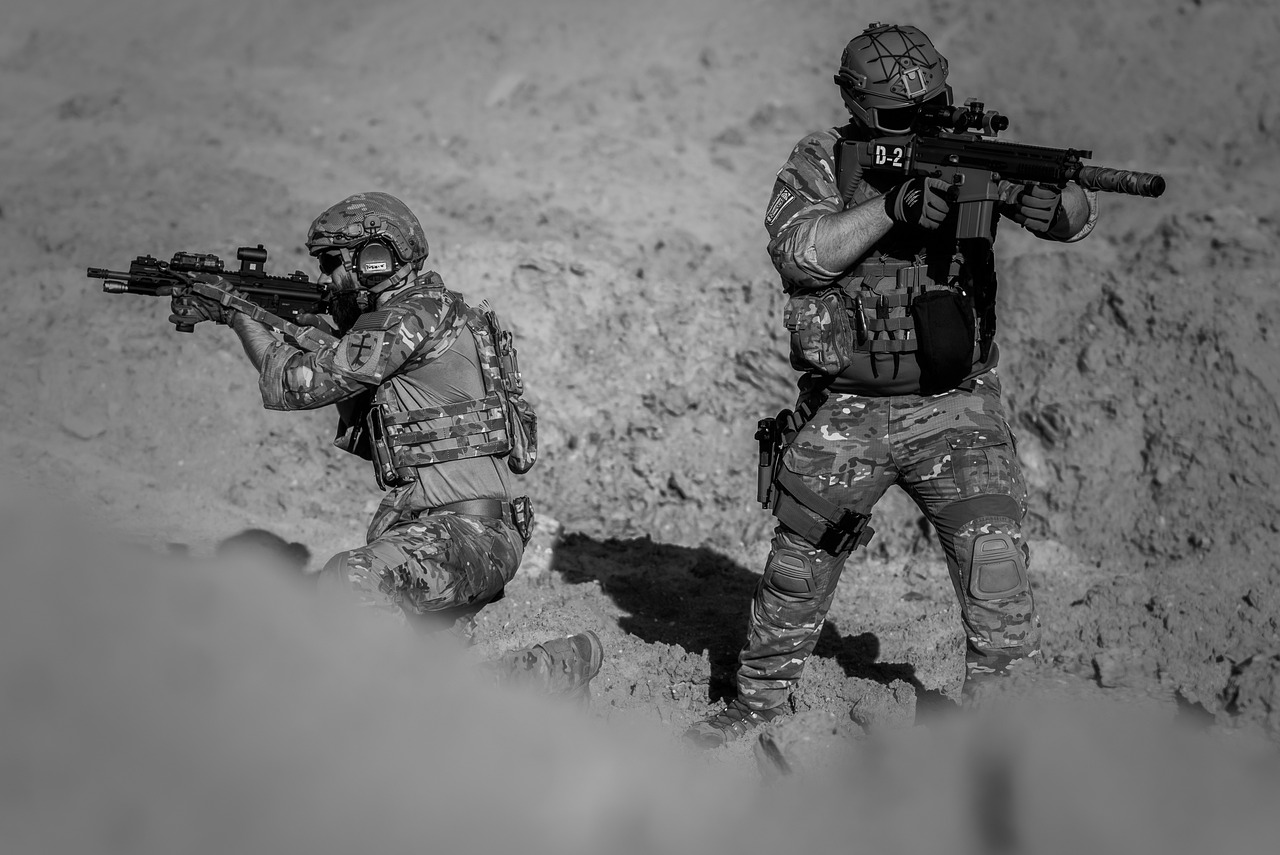gun: (829, 91, 1169, 253), (81, 240, 342, 336)
